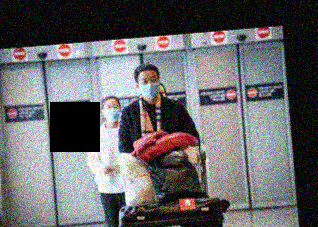with_mask: (138, 73, 161, 99), (103, 102, 121, 124)
